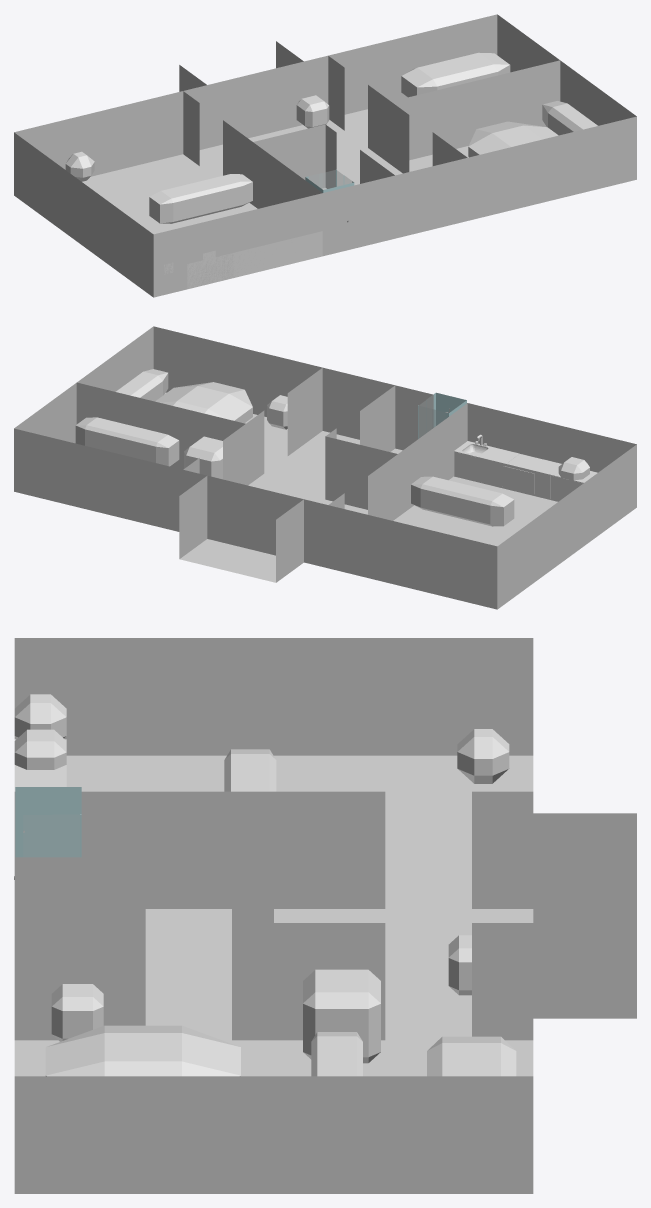
The model's file is House Final.glb.
3 renders of one model, top to bottom at view 1: azimuth 30°, elevation 25°; view 2: azimuth 150°, elevation 25°; view 3: azimuth 270°, elevation 25°, orthographic. The views are drawn at different scales.
Visible parts, largest first — view 1: House, Sink, Cube.011, Cube.009, Cube.004, Cube.005, Cube.012, Cube.013, Cube.002; view 2: House, Sink, Cube.011, Cube.007, Cube.004, Cube.008, Cube.013, Cube.005, Cube.006, Cube; view 3: House, Cube.004, Cube.008, Cube.013, Cube.009, Cube.006, Cube.002, Cube.007, Cube.011, Cube, Cube.001, Cube.012 (+1 smaller).
Part boxes in pixels (x1=…): House: x1=14, y1=14, x2=636, y2=297; Sink: x1=187, y1=231, x2=322, y2=288; Cube.011: x1=149, y1=174, x2=252, y2=223; Cube.009: x1=401, y1=52, x2=510, y2=97; Cube.004: x1=468, y1=121, x2=558, y2=157; Cube.005: x1=542, y1=101, x2=597, y2=135; Cube.012: x1=296, y1=95, x2=329, y2=128; Cube.013: x1=305, y1=169, x2=354, y2=222; Cube.002: x1=65, y1=151, x2=94, y2=181; House: x1=14, y1=326, x2=636, y2=609; Sink: x1=454, y1=434, x2=597, y2=501; Cube.011: x1=411, y1=476, x2=514, y2=526; Cube.007: x1=75, y1=417, x2=179, y2=466; Cube.004: x1=155, y1=382, x2=252, y2=423; Cube.008: x1=184, y1=436, x2=222, y2=479; Cube.013: x1=418, y1=392, x2=466, y2=438; Cube.005: x1=116, y1=369, x2=168, y2=401; Cube.006: x1=267, y1=395, x2=287, y2=429; Cube: x1=558, y1=457, x2=589, y2=480; House: x1=14, y1=638, x2=636, y2=1193; Cube.004: x1=45, y1=1025, x2=240, y2=1076; Cube.008: x1=303, y1=969, x2=380, y2=1063; Cube.013: x1=14, y1=787, x2=81, y2=879; Cube.009: x1=427, y1=1036, x2=516, y2=1076; Cube.006: x1=51, y1=984, x2=103, y2=1041; Cube.002: x1=457, y1=729, x2=509, y2=783; Cube.007: x1=311, y1=1032, x2=362, y2=1076; Cube.011: x1=224, y1=749, x2=276, y2=791; Cube: x1=14, y1=729, x2=66, y2=769; Cube.001: x1=14, y1=694, x2=66, y2=738; Cube.012: x1=448, y1=935, x2=471, y2=995.
Size of the model in its own units: 40 by 5.22 by 24.03.
